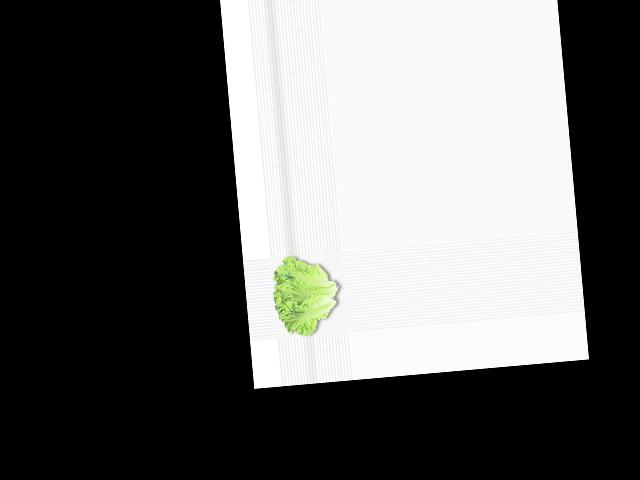lettuce: (270, 254, 344, 340)
